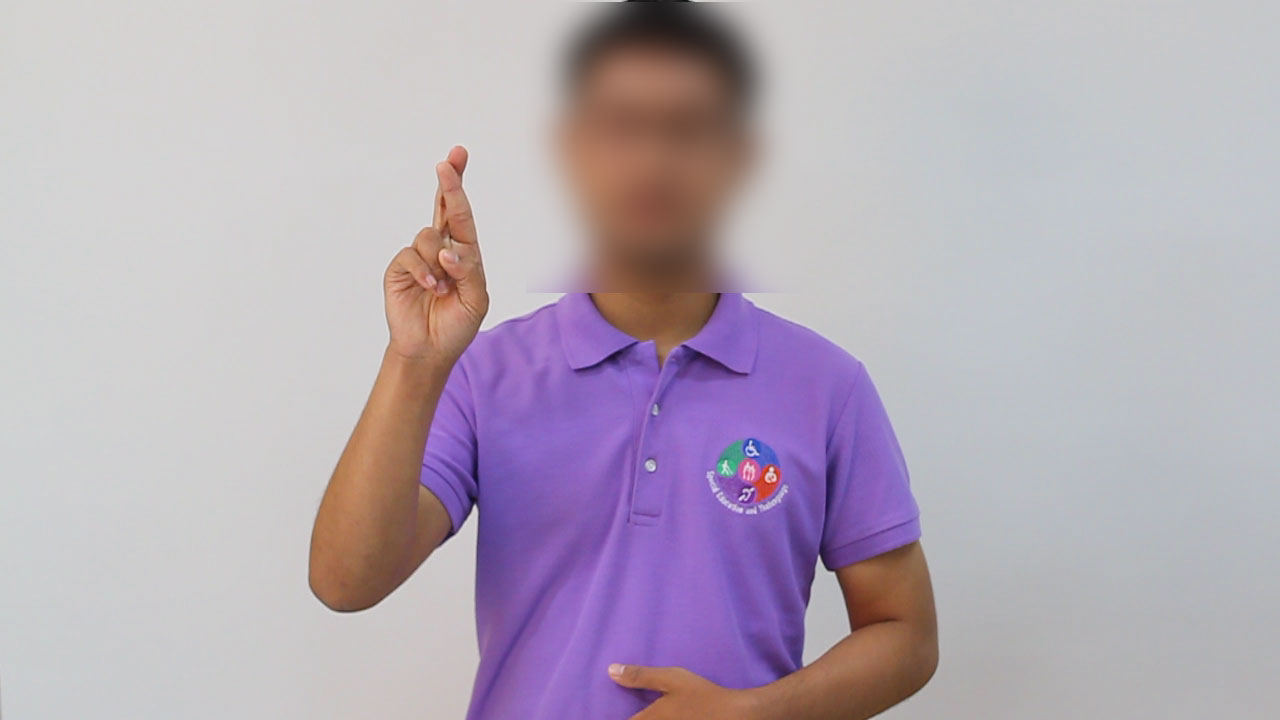rao: (364, 143, 503, 395)
